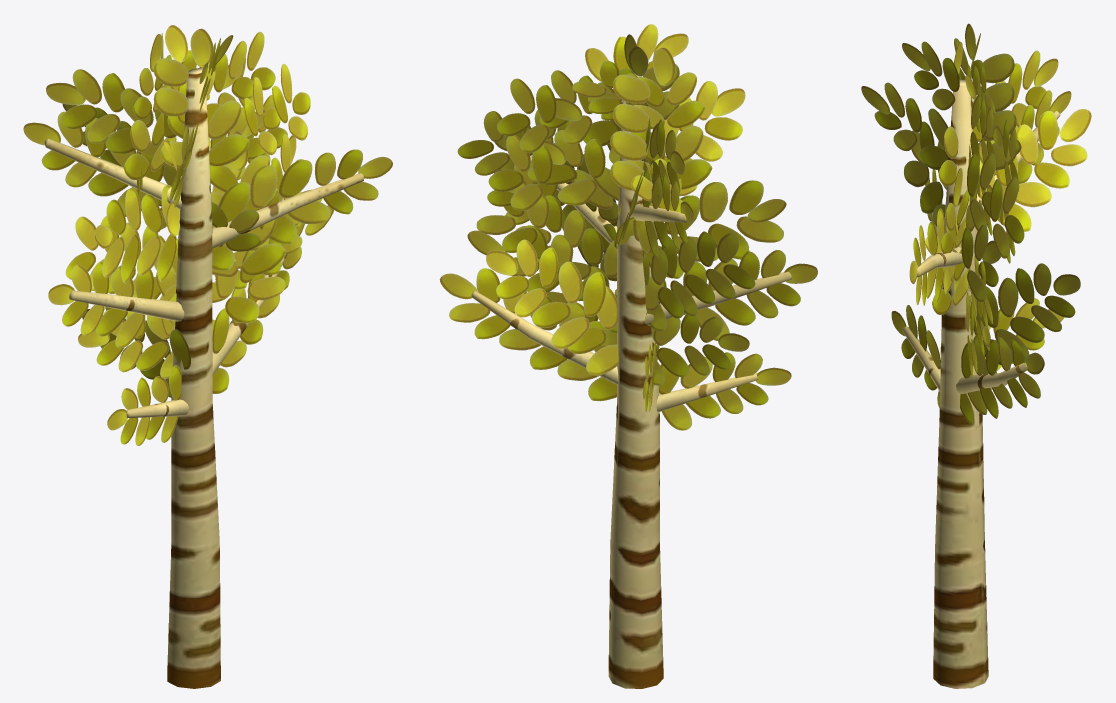
Rendered from aspen.glb.
The picture shows the model from 3 angles, left to right: view 1: azimuth 30°, elevation 25°; view 2: azimuth 150°, elevation 25°; view 3: azimuth 270°, elevation 25°; orthographic projection.
Parts seen in each view (by area): view 1: Plane.245, RetopoFlow.004; view 2: Plane.245, RetopoFlow.004; view 3: Plane.245, RetopoFlow.004.
Part boxes in pixels (x1,y1,x2,y2): Plane.245: (23,25,392,445); RetopoFlow.004: (44,68,364,688); Plane.245: (439,24,817,430); RetopoFlow.004: (471,74,791,688); Plane.245: (861,23,1091,425); RetopoFlow.004: (902,79,1060,688).
Bounding box in the file's own units: 8.52 × 15.14 × 5.23.
Materials: 2 (2 with a texture image).
